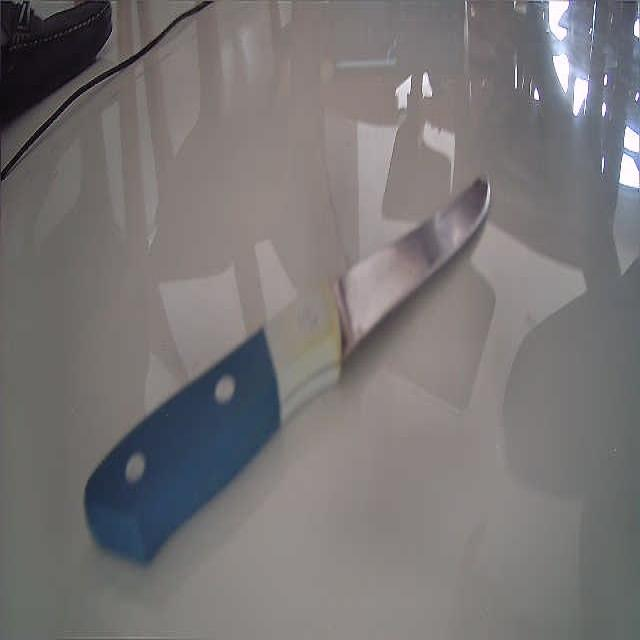knife: (82, 169, 489, 567)
